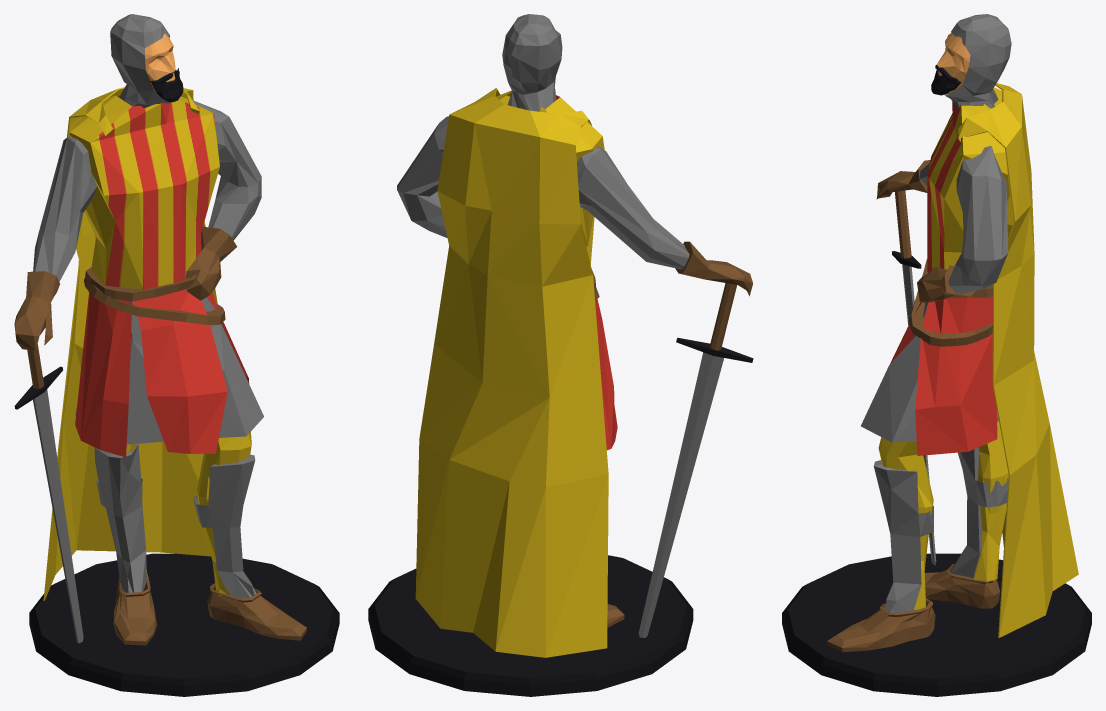
Rendered from Lluria.FBX.
3 renders of one model, left to right at view 1: azimuth 30°, elevation 25°; view 2: azimuth 150°, elevation 25°; view 3: azimuth 270°, elevation 25°, orthographic. The views are drawn at different scales.
Visible parts, largest first — view 1: Line001; view 2: Line001; view 3: Line001.
Part boxes in pixels (x1,y1,x2,y2): Line001: [14, 14, 339, 696]; Line001: [368, 14, 753, 696]; Line001: [782, 14, 1091, 696].
Bounding box in the file's own units: 11.93 × 21.09 × 9.83.
